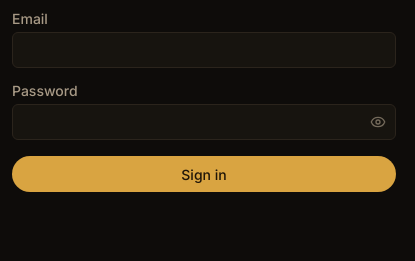
login › shows the backend message on bad credentials without clearing the form
Type "s@test.edu" into the field labelled "Email" at (204, 50), box [12,32,396,68]
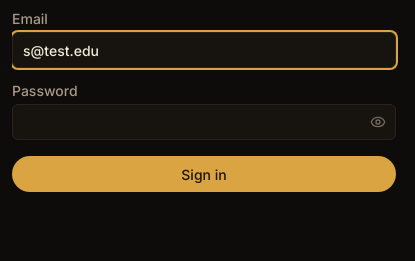
Type "wrong" into the password field labelled "Password" at (204, 122), box [12,104,396,140]
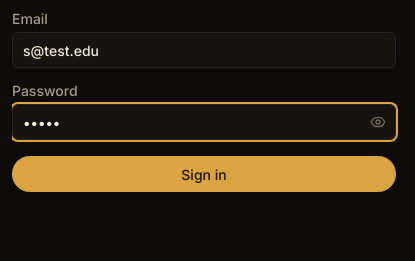
Click the button "Sign in" at (204, 174), box [12,156,396,192]
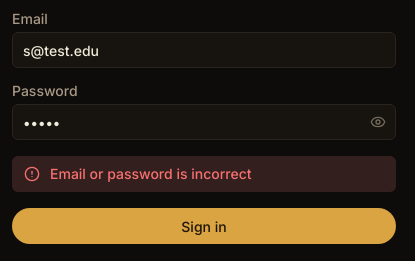
Check: the text "Email or password is incorrect" is shown, box [50,165,252,182]
